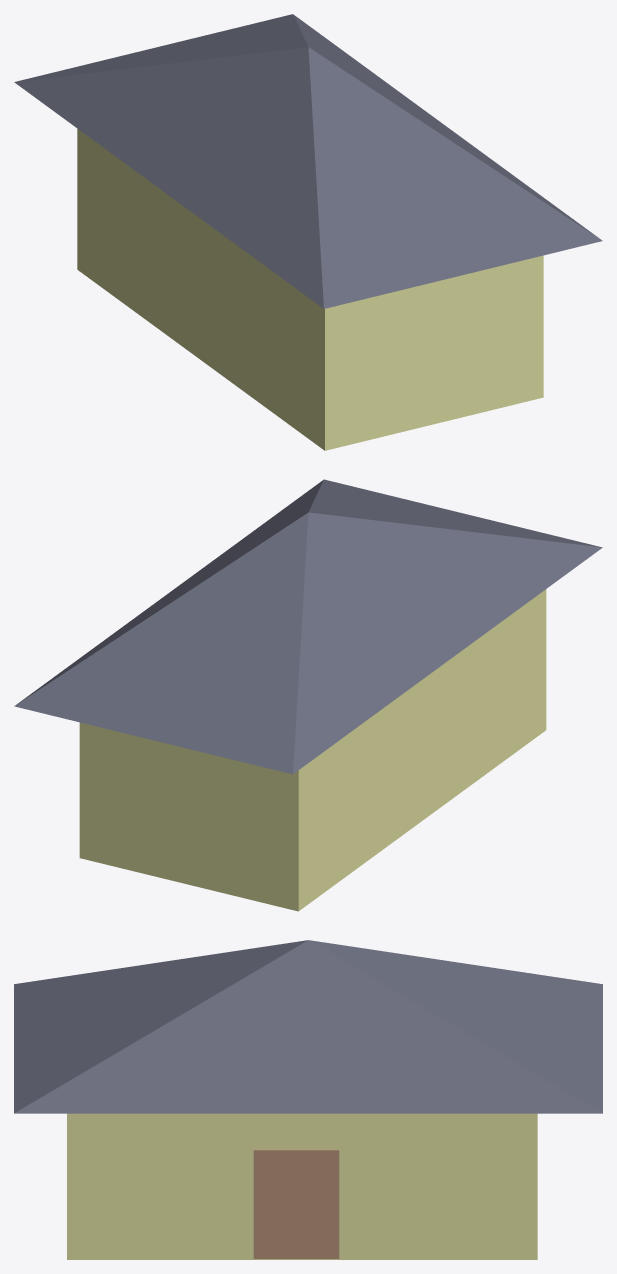
File: house.gltf
3 renders of one model, top to bottom at view 1: azimuth 30°, elevation 25°; view 2: azimuth 150°, elevation 25°; view 3: azimuth 270°, elevation 25°, orthographic. The views are drawn at different scales.
Visible parts, largest first — view 1: Pyramid, Cube; view 2: Pyramid, Cube; view 3: Pyramid, Cube, Cube.1.
Part boxes in pixels (x1,y1,x2,y2): Pyramid: (14, 14, 602, 308); Cube: (77, 129, 543, 450); Pyramid: (14, 479, 602, 774); Cube: (79, 589, 546, 911); Pyramid: (14, 940, 602, 1113); Cube: (67, 1113, 537, 1259); Cube.1: (253, 1149, 339, 1258).
Size of the model in its own units: 510 by 496 by 981.
